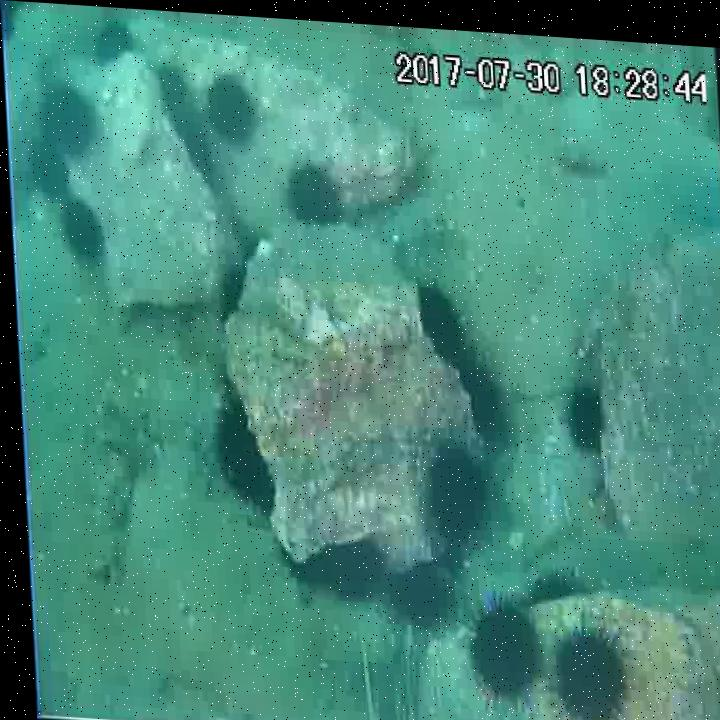echinus: (458, 585, 540, 708), (268, 515, 379, 601), (416, 422, 488, 551), (206, 385, 275, 517), (544, 615, 624, 720), (374, 551, 456, 631), (449, 348, 506, 440), (35, 80, 98, 161), (282, 154, 344, 227), (412, 278, 466, 361), (53, 196, 109, 274), (201, 66, 257, 143), (168, 106, 217, 183), (558, 372, 603, 448), (23, 131, 71, 202), (514, 557, 577, 610), (212, 256, 249, 312), (157, 58, 191, 118), (95, 20, 140, 62)
